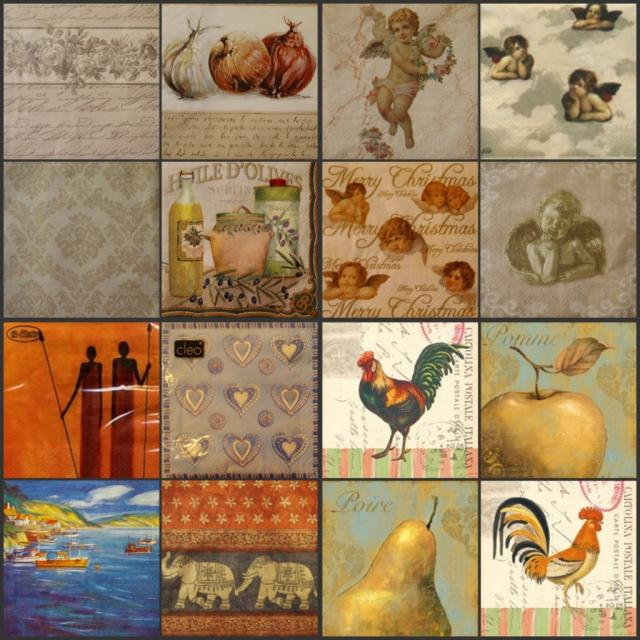Healty Apple: (479, 343, 609, 480)
